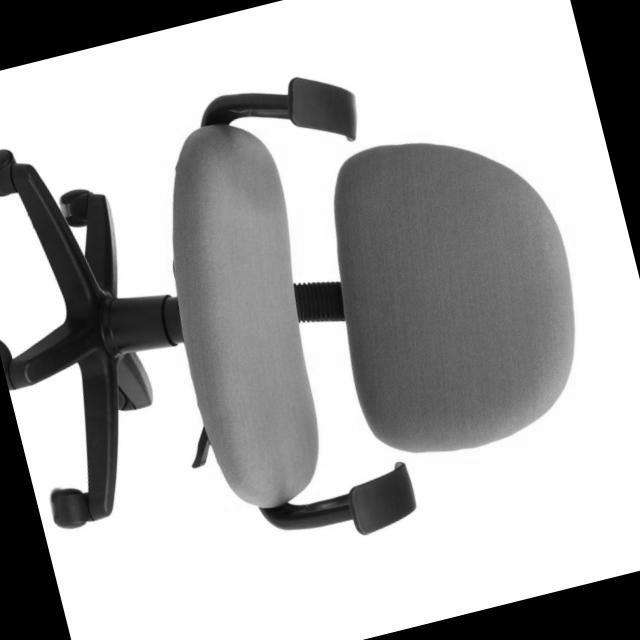chair: (0, 13, 625, 615)
